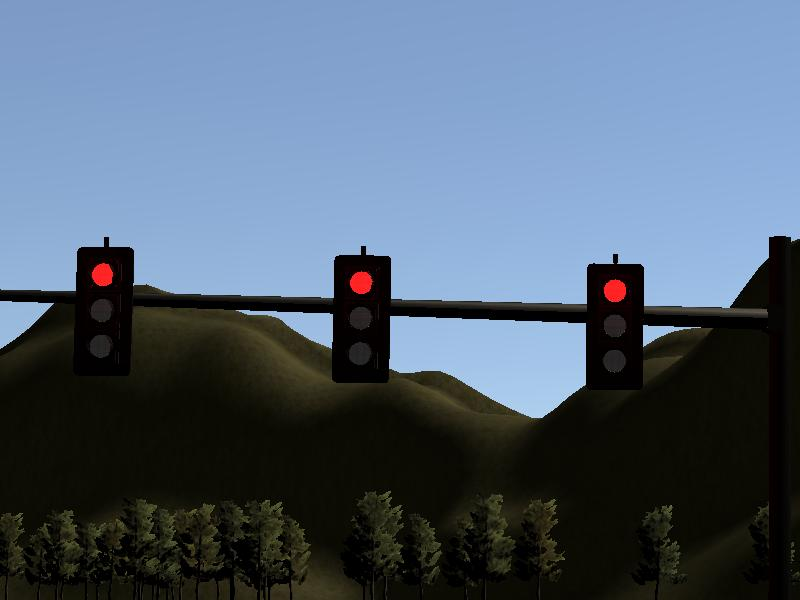red: (75, 243, 134, 377), (585, 260, 643, 393), (334, 252, 389, 384)
